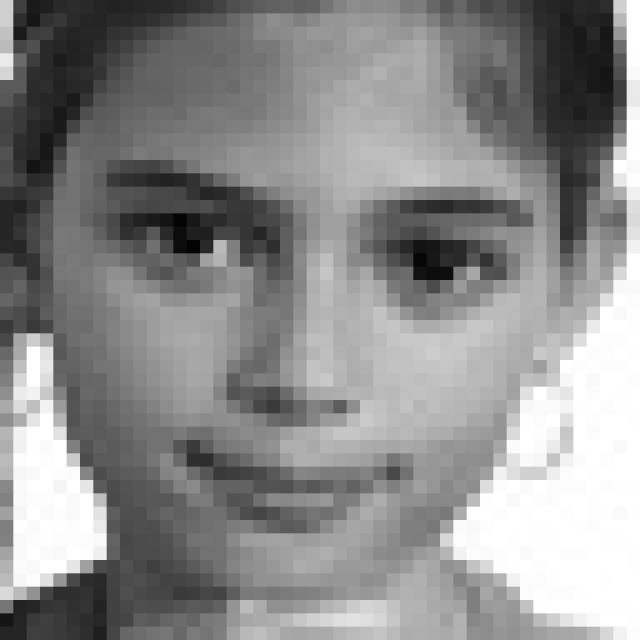neutral: (102, 151, 535, 537)
